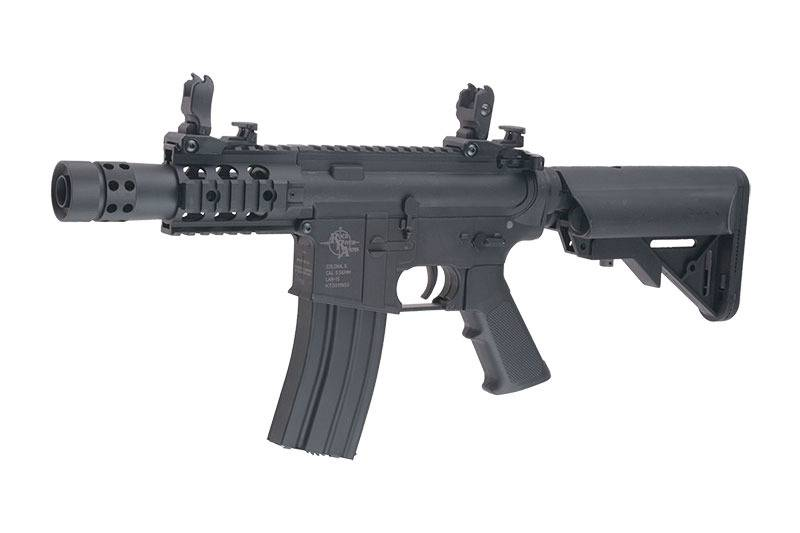m4_carbine: (269, 131, 559, 463)
